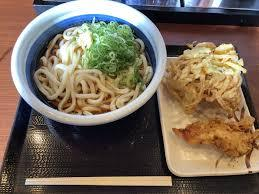bukkake: (17, 4, 156, 121)
kakiage: (166, 42, 247, 116)
